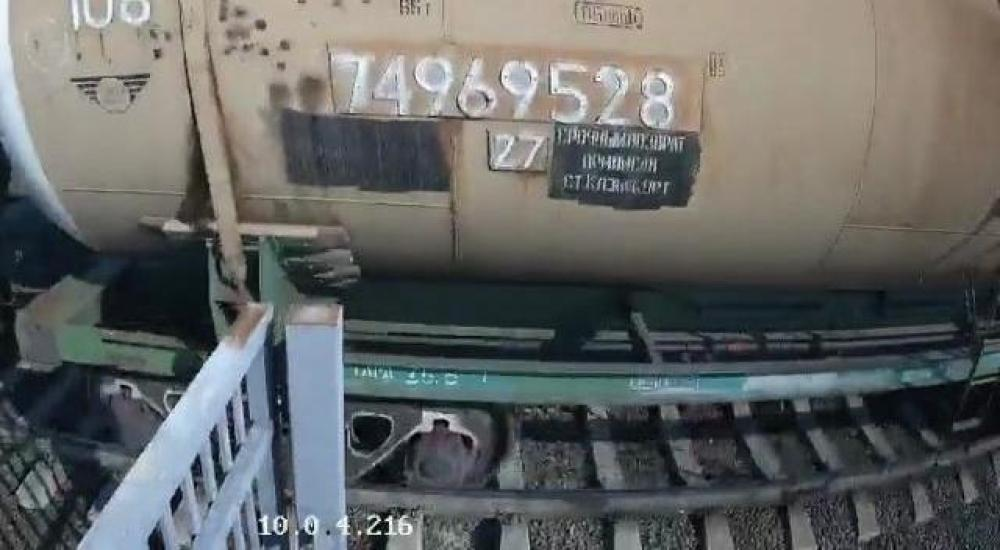Wagon-number: (332, 50, 686, 130)
